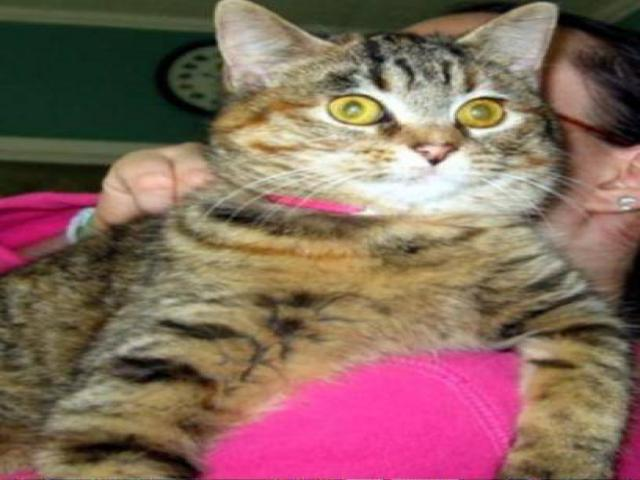cat: (4, 5, 624, 445)
